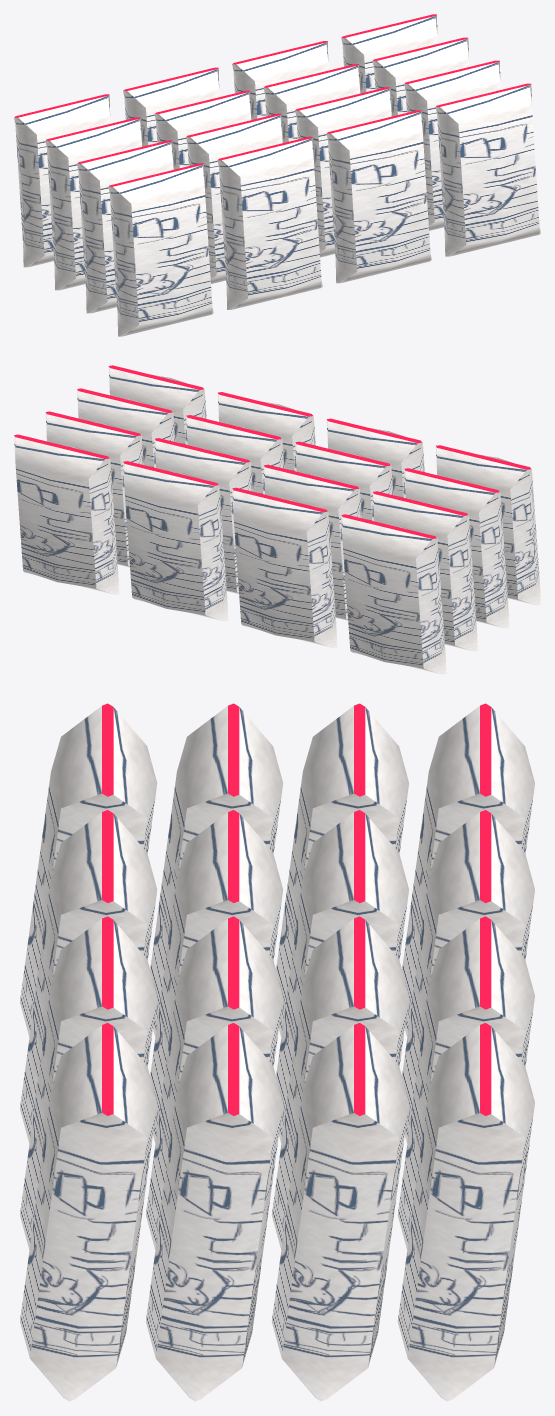
The model's file is Lays_Chip.fbx.
3 renders of one model, top to bottom at view 1: azimuth 30°, elevation 25°; view 2: azimuth 150°, elevation 25°; view 3: azimuth 270°, elevation 25°, orthographic. The views are drawn at different scales.
Visible parts, largest first — view 1: LaysChips26; view 2: LaysChips26; view 3: LaysChips26.
Boxes of the visible parts, left/top/right/bottom form: LaysChips26: left=14, top=14, right=540, bottom=336; LaysChips26: left=14, top=365, right=540, bottom=674; LaysChips26: left=20, top=703, right=534, bottom=1401.
Bounding box in the file's own units: 116 × 37.66 × 61.37.
